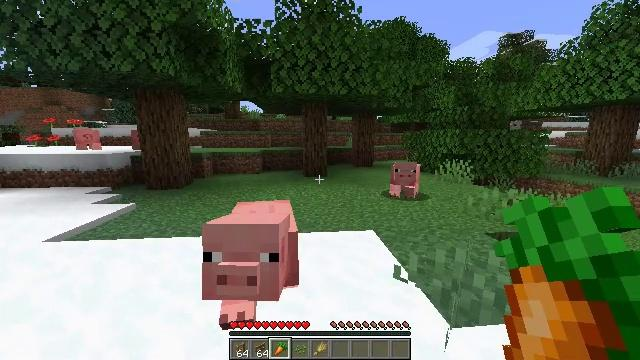pig: (202, 200, 299, 330), (388, 162, 420, 197), (73, 127, 102, 151)
